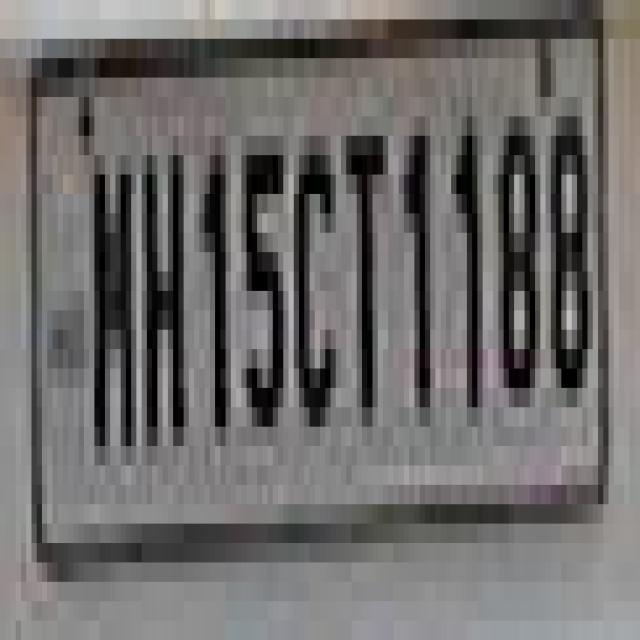license_plate: (11, 20, 604, 562)
